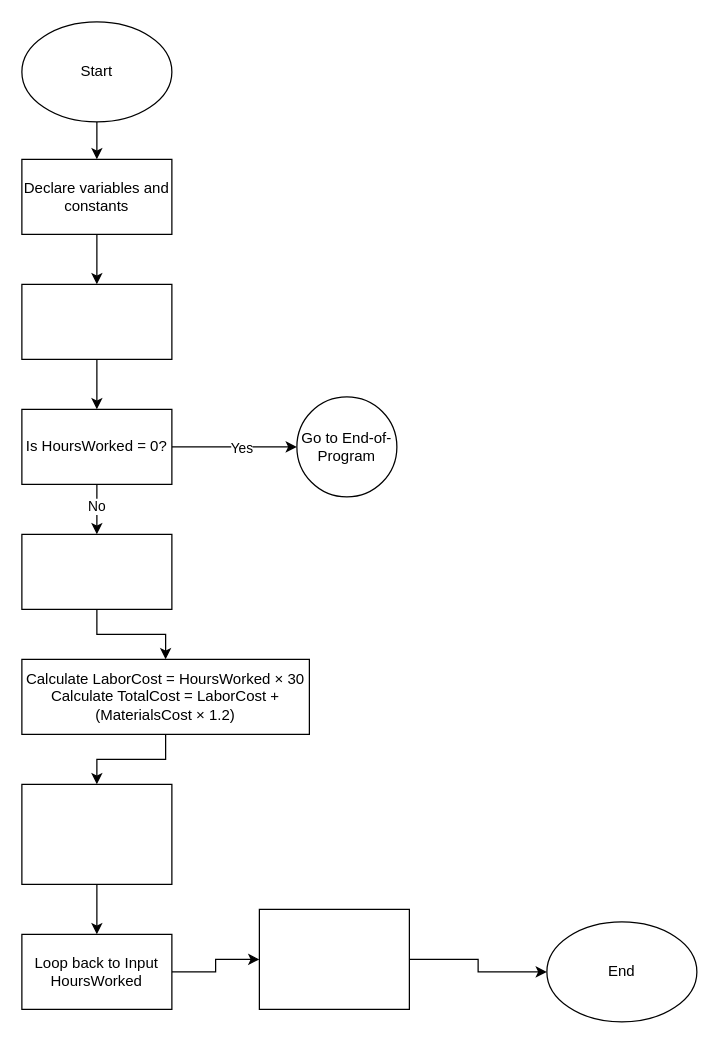
Image size: 719x1044. Some labels were removed from this diagram. The centre of each missing label's shape, as x and y in pixels:
Display HoursWorked Display MaterialsCost Display LaborCost Display TotalCost: (96,833)
End-of-Program: Display "Program Complete": (333,958)
Input HoursWorked: (96,321)
Input MaterialsCost: (96,571)
